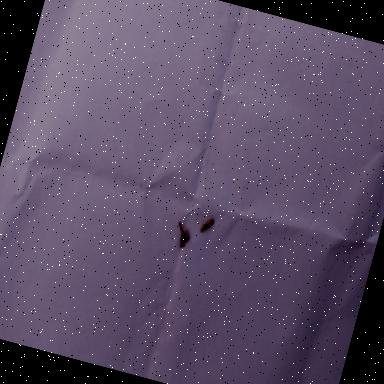pbw: (199, 217, 214, 235)
